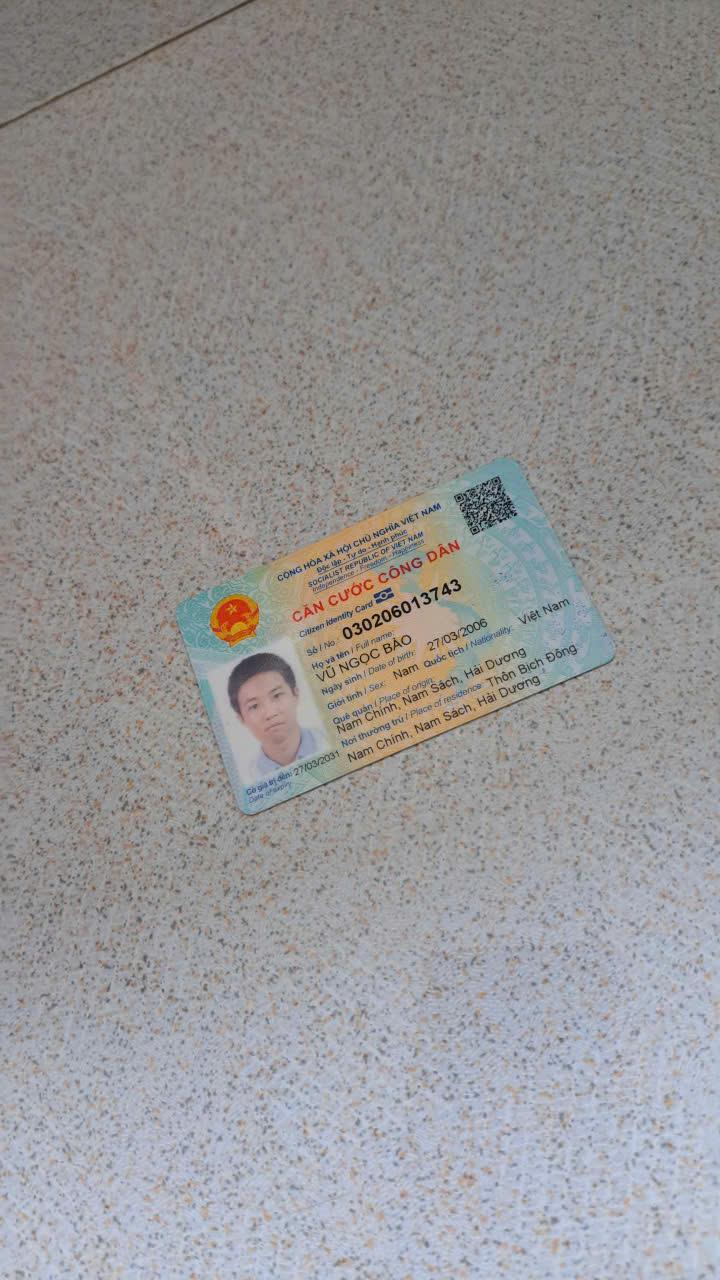cccd: (156, 455, 630, 828)
